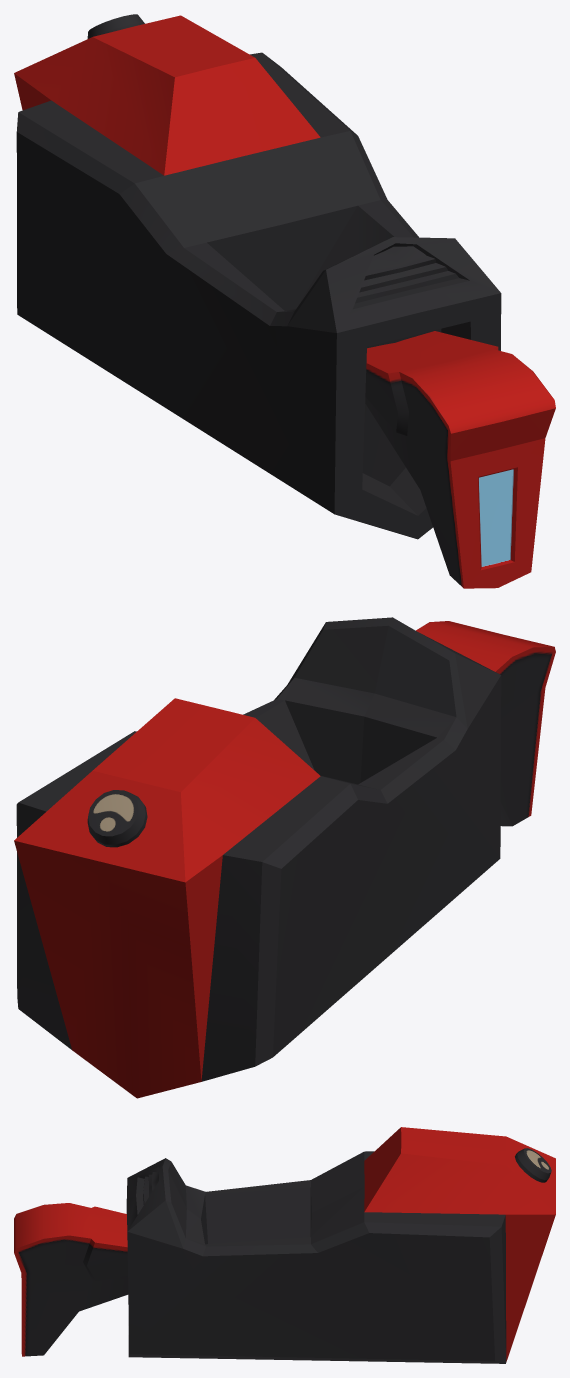
File: Body_jijia01_dipan.FBX
3 renders of one model, top to bottom at view 1: azimuth 30°, elevation 25°; view 2: azimuth 150°, elevation 25°; view 3: azimuth 270°, elevation 25°, orthographic. The views are drawn at different scales.
Visible parts, largest first — view 1: Body_jijia01_dipan; view 2: Body_jijia01_dipan; view 3: Body_jijia01_dipan.
Boxes of the visible parts, x1=… form: Body_jijia01_dipan: x1=14, y1=14, x2=555, y2=588; Body_jijia01_dipan: x1=14, y1=617, x2=555, y2=1098; Body_jijia01_dipan: x1=14, y1=1127, x2=555, y2=1363.
Size of the model in its own units: 0.6507 by 0.7838 by 1.72.
1 material, 1 textured.
